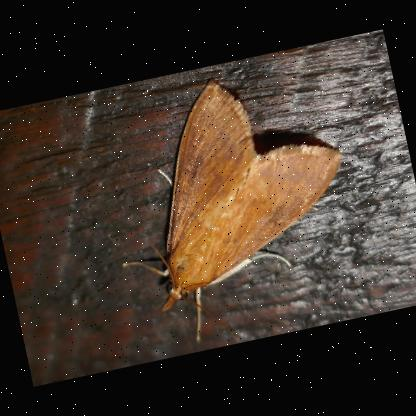Asian Corn Borer Moth: (86, 52, 376, 358)
